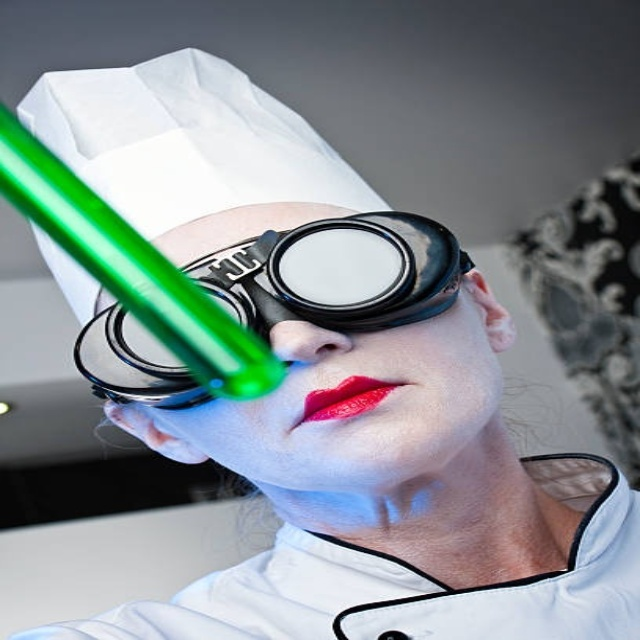Gafas: (73, 214, 479, 409)
Sin_mascara: (281, 374, 427, 450)
